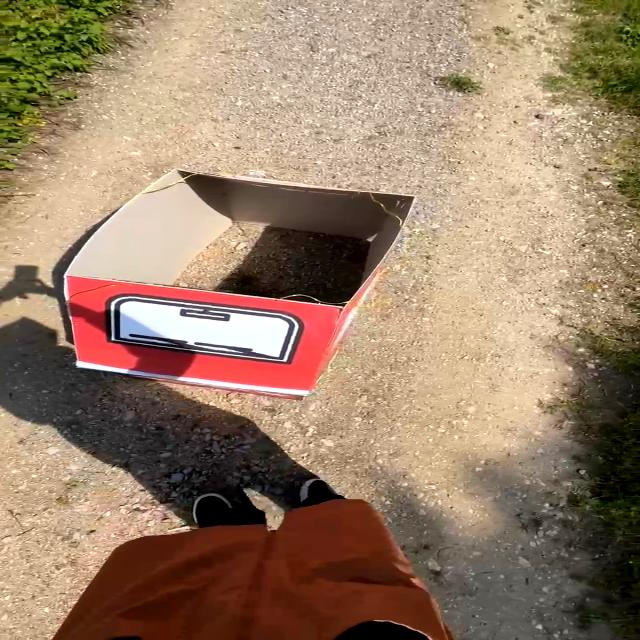red_car: (34, 142, 428, 421)
